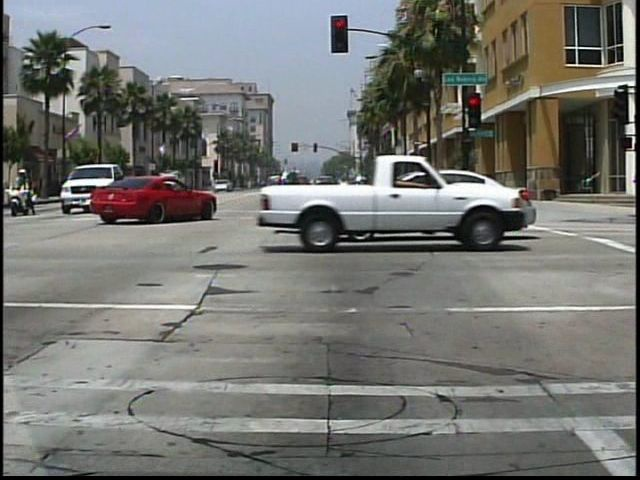person: (5, 167, 40, 219)
